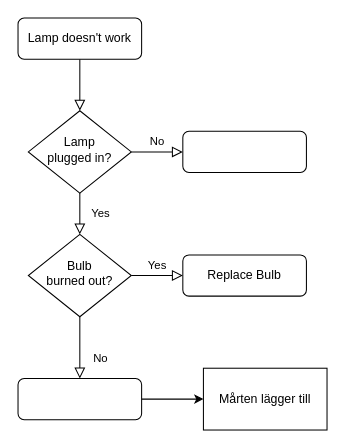
Image size: 345x448. Some labels were removed from this diagram. Each missing label, with the centre of its shape:
Plug in lamp: (244,151)
Repair Lamp: (79,398)
